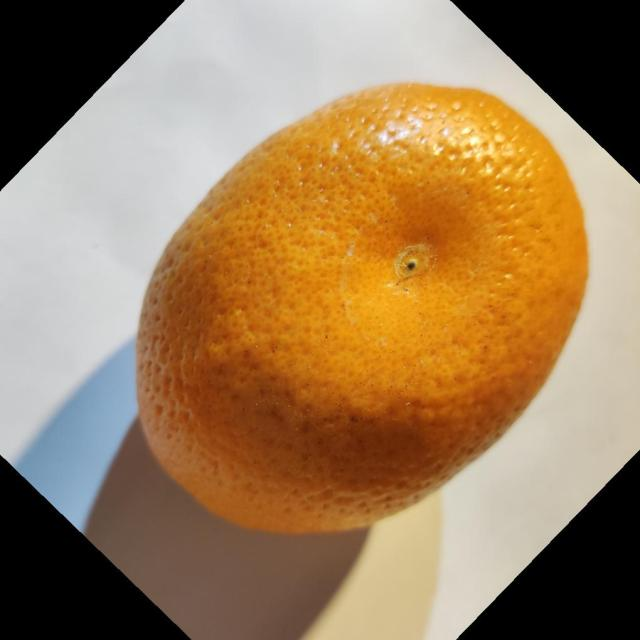fresh orange: (134, 80, 589, 536)
